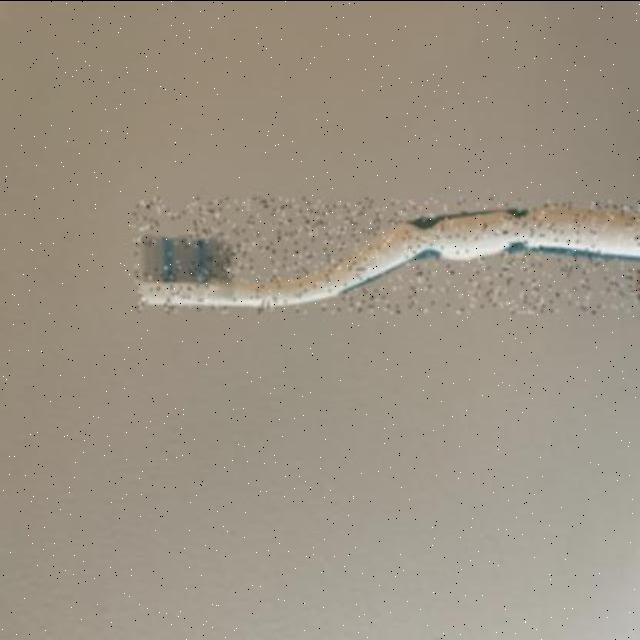toothbrush: (132, 198, 640, 312)
